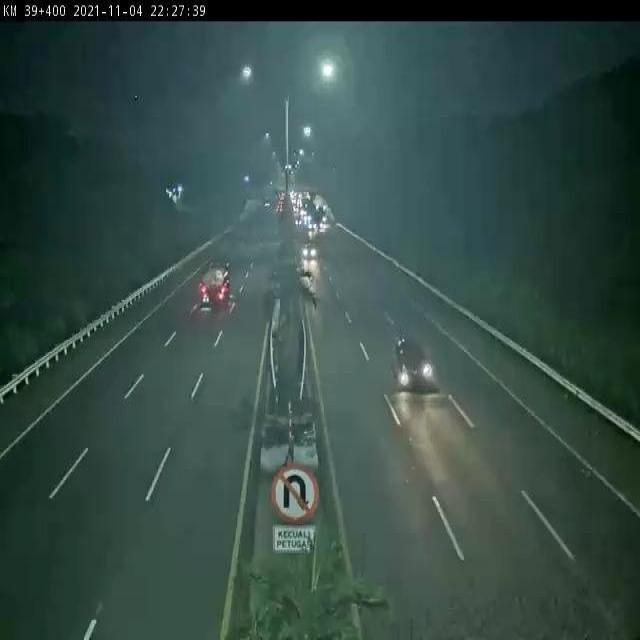car: (396, 333, 435, 387)
truck-l-: (198, 264, 228, 307)
